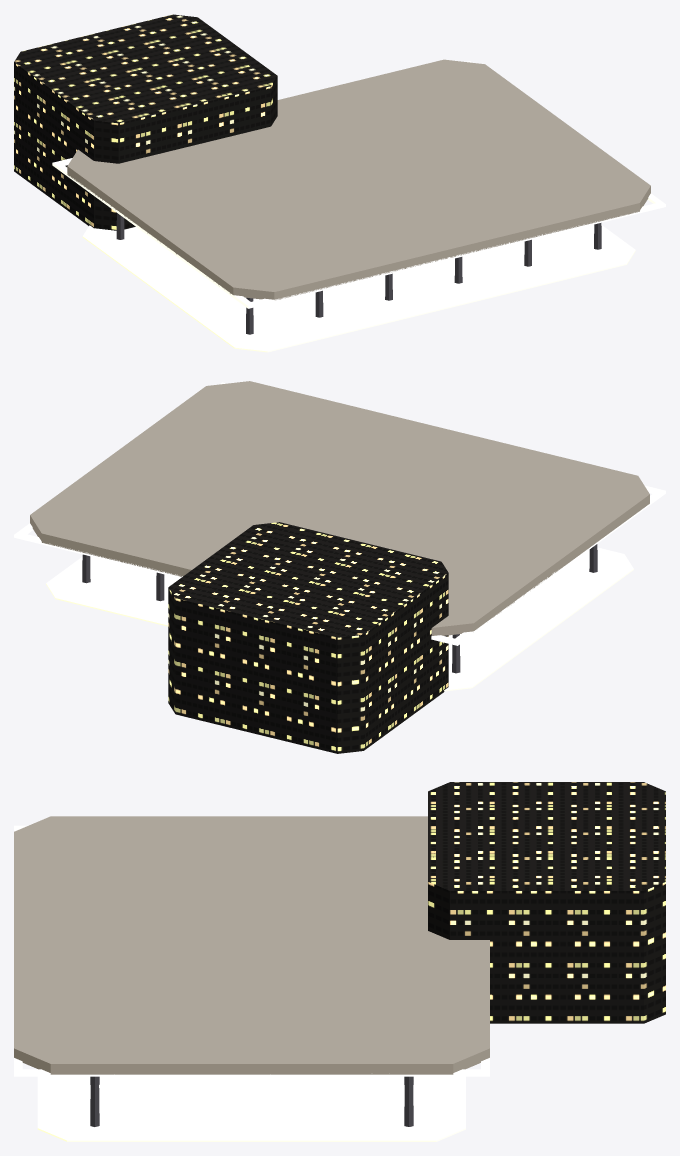
The model's file is woodlands-checkpoint.glb.
3 renders of one model, top to bottom at view 1: azimuth 30°, elevation 25°; view 2: azimuth 150°, elevation 25°; view 3: azimuth 270°, elevation 25°, orthographic. The views are drawn at different scales.
Parts seen in each view (by area): view 1: canopy, hall, apron, canopy-rim, columns; view 2: canopy, hall, apron, canopy-rim, columns; view 3: canopy, hall, apron, canopy-rim, columns.
Boxes of the visible parts, <box> form: canopy: <box>67,59,650,300</box>; hall: <box>14,14,277,230</box>; apron: <box>82,224,635,352</box>; canopy-rim: <box>52,61,665,308</box>; columns: <box>116,213,601,334</box>; canopy: <box>30,381,649,635</box>; hall: <box>168,522,448,753</box>; apron: <box>46,547,633,691</box>; canopy-rim: <box>14,382,665,645</box>; columns: <box>82,544,597,673</box>; canopy: <box>14,816,489,1074</box>; hall: <box>428,782,665,1023</box>; apron: <box>37,1076,465,1141</box>; canopy-rim: <box>14,825,489,1076</box>; columns: <box>90,1076,413,1126</box>.
Bounding box in the file's own units: 160 × 40 × 178.
5 materials, 1 textured.
